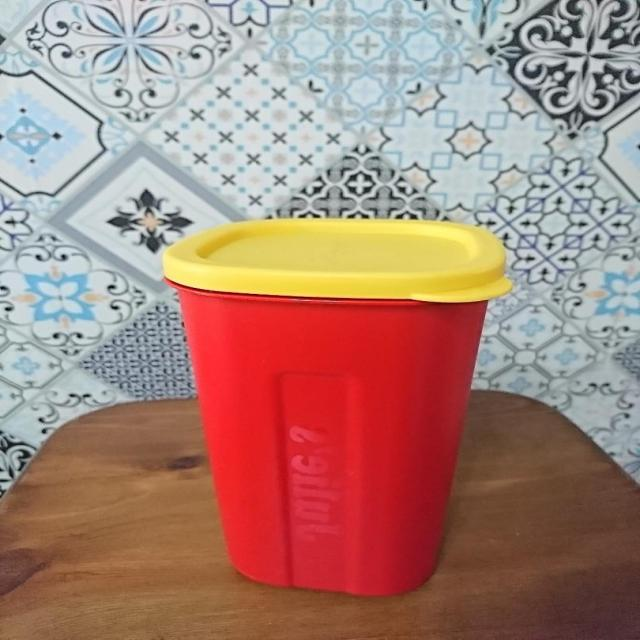plastic: (168, 216, 516, 601)
